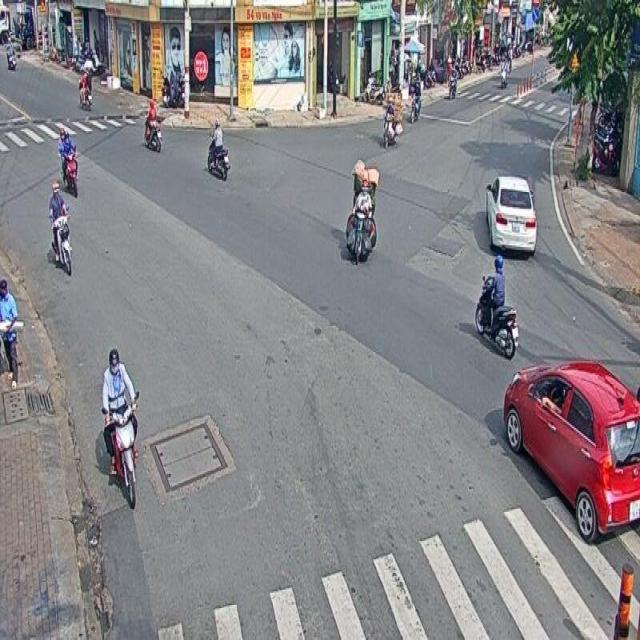car: (503, 358, 640, 540), (485, 176, 537, 254)
motorcycle: (101, 348, 139, 510), (474, 254, 518, 360), (48, 180, 72, 276), (354, 178, 374, 264), (58, 128, 78, 197), (208, 119, 230, 180), (144, 100, 162, 152)
